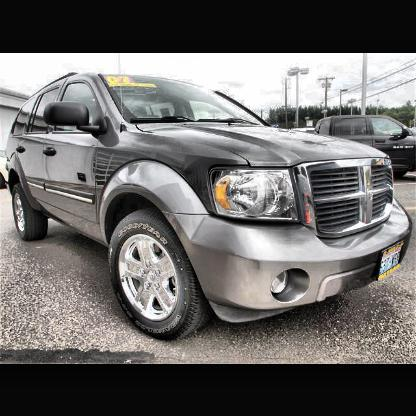Dodge Durango SUV 2007: (7, 74, 414, 341)
